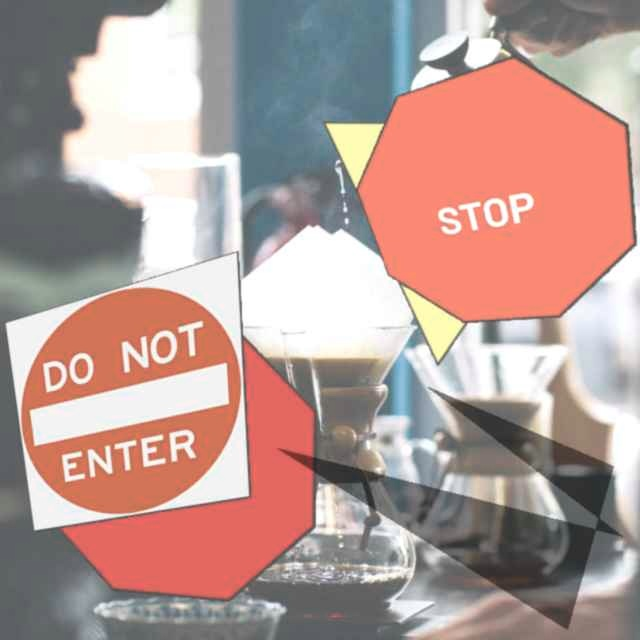DO_NOT_ENTER: (4, 250, 251, 532)
NOT_YIELD: (322, 121, 604, 366)
STOP: (35, 320, 317, 602), (355, 54, 637, 323)
